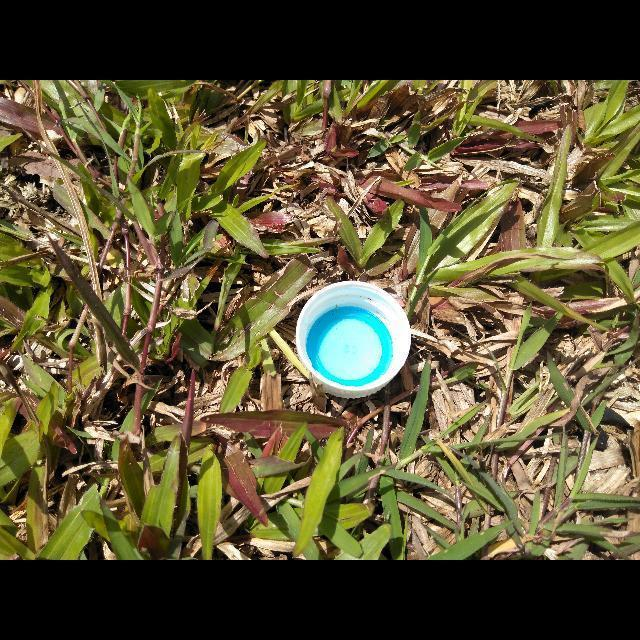Plastic: (296, 282, 412, 398)
